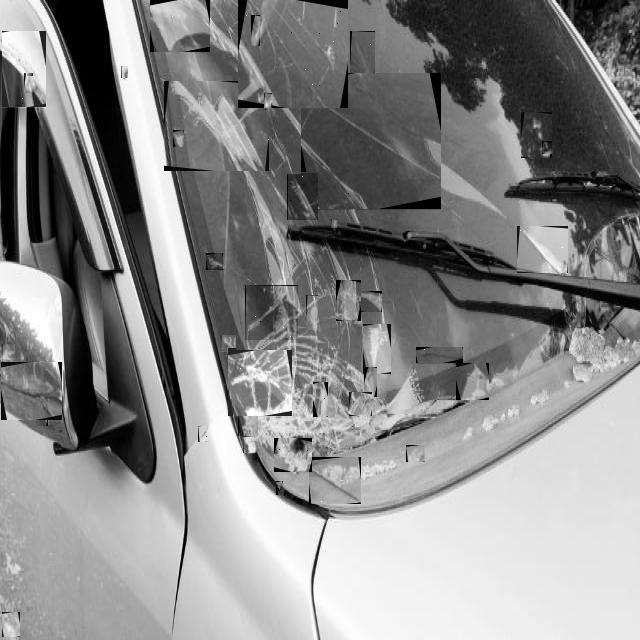Dent: (301, 74, 441, 212), (238, 0, 348, 108), (164, 81, 269, 171), (228, 351, 292, 416), (1, 362, 62, 420), (2, 32, 46, 110), (150, 0, 210, 52), (245, 285, 298, 340), (309, 457, 361, 504), (517, 226, 568, 273), (521, 112, 552, 158), (287, 174, 318, 220), (363, 324, 391, 374), (274, 438, 312, 472), (350, 31, 375, 81), (456, 363, 489, 400), (336, 280, 361, 321), (416, 348, 463, 366), (238, 403, 258, 436), (354, 291, 382, 312), (349, 392, 372, 417), (313, 382, 328, 417), (2, 612, 20, 637), (306, 295, 318, 330), (364, 367, 377, 397), (231, 367, 256, 382), (36, 397, 48, 426), (321, 34, 334, 60), (406, 445, 425, 462), (206, 253, 223, 270), (251, 15, 260, 46), (221, 336, 236, 354), (2, 344, 15, 360), (243, 436, 255, 453), (173, 130, 184, 147), (24, 75, 33, 93), (198, 426, 207, 442), (22, 367, 30, 385), (542, 141, 552, 154), (264, 93, 272, 108), (325, 0, 330, 21), (276, 481, 283, 495), (292, 0, 297, 19), (121, 66, 128, 78), (331, 219, 337, 228)
